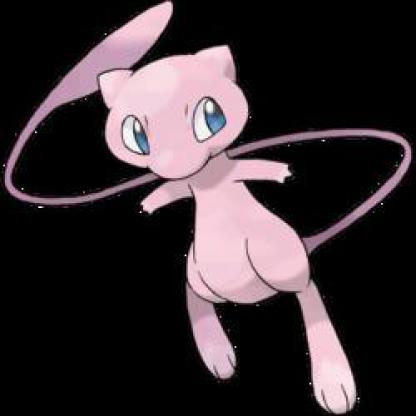Mew: (1, 1, 416, 408)
